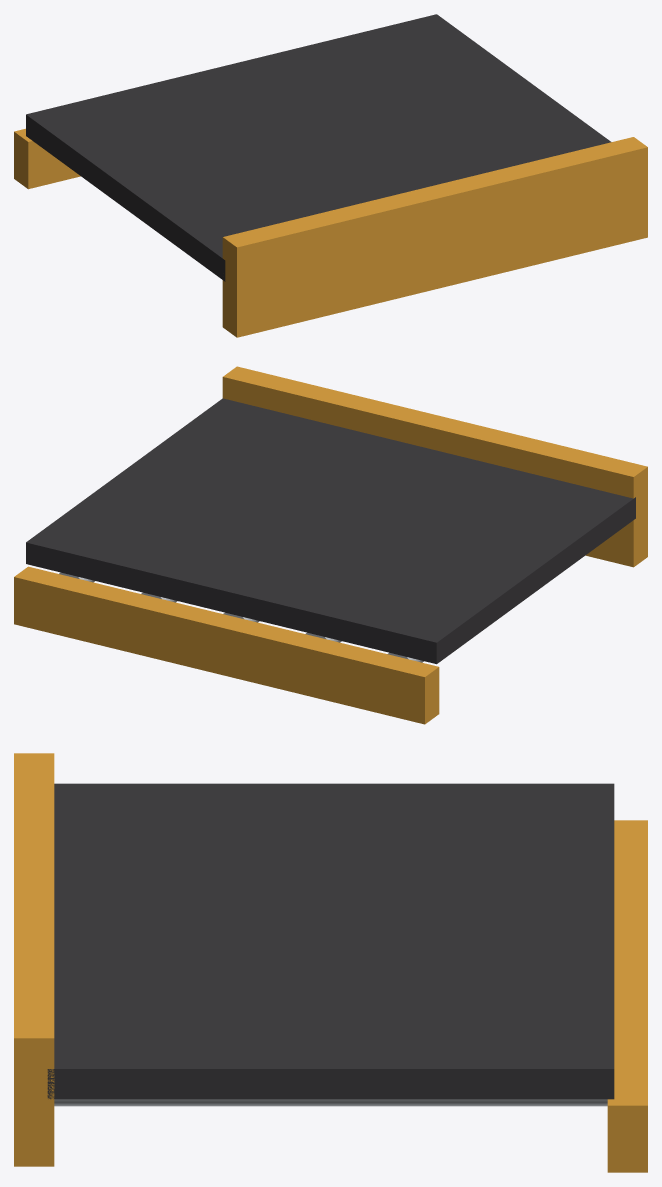
Rendered from prop_conveyor.fbx.
The picture shows the model from 3 angles, top to bottom: view 1: azimuth 30°, elevation 25°; view 2: azimuth 150°, elevation 25°; view 3: azimuth 270°, elevation 25°; orthographic projection. The views are drawn at different scales.
Parts seen in each view (by area): view 1: prop_conveyor; view 2: prop_conveyor; view 3: prop_conveyor.
Part boxes in pixels (x1,y1,x2,y2): prop_conveyor: (14,14,647,337); prop_conveyor: (14,366,647,724); prop_conveyor: (14,753,647,1172).
Size of the model in its own units: 1 by 0.22 by 0.94.
